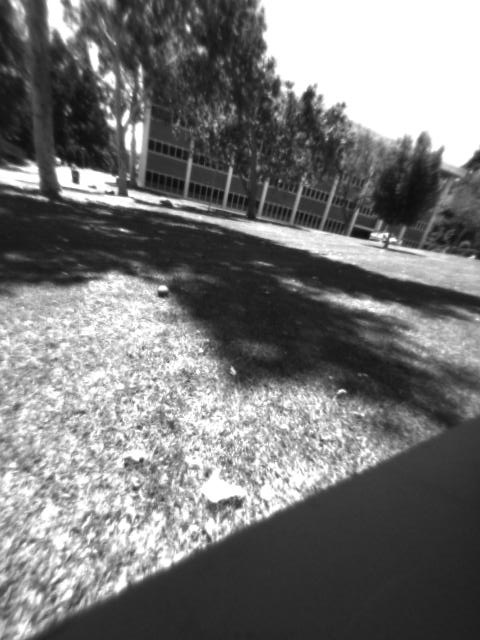dogtoy: (150, 274, 179, 303)
